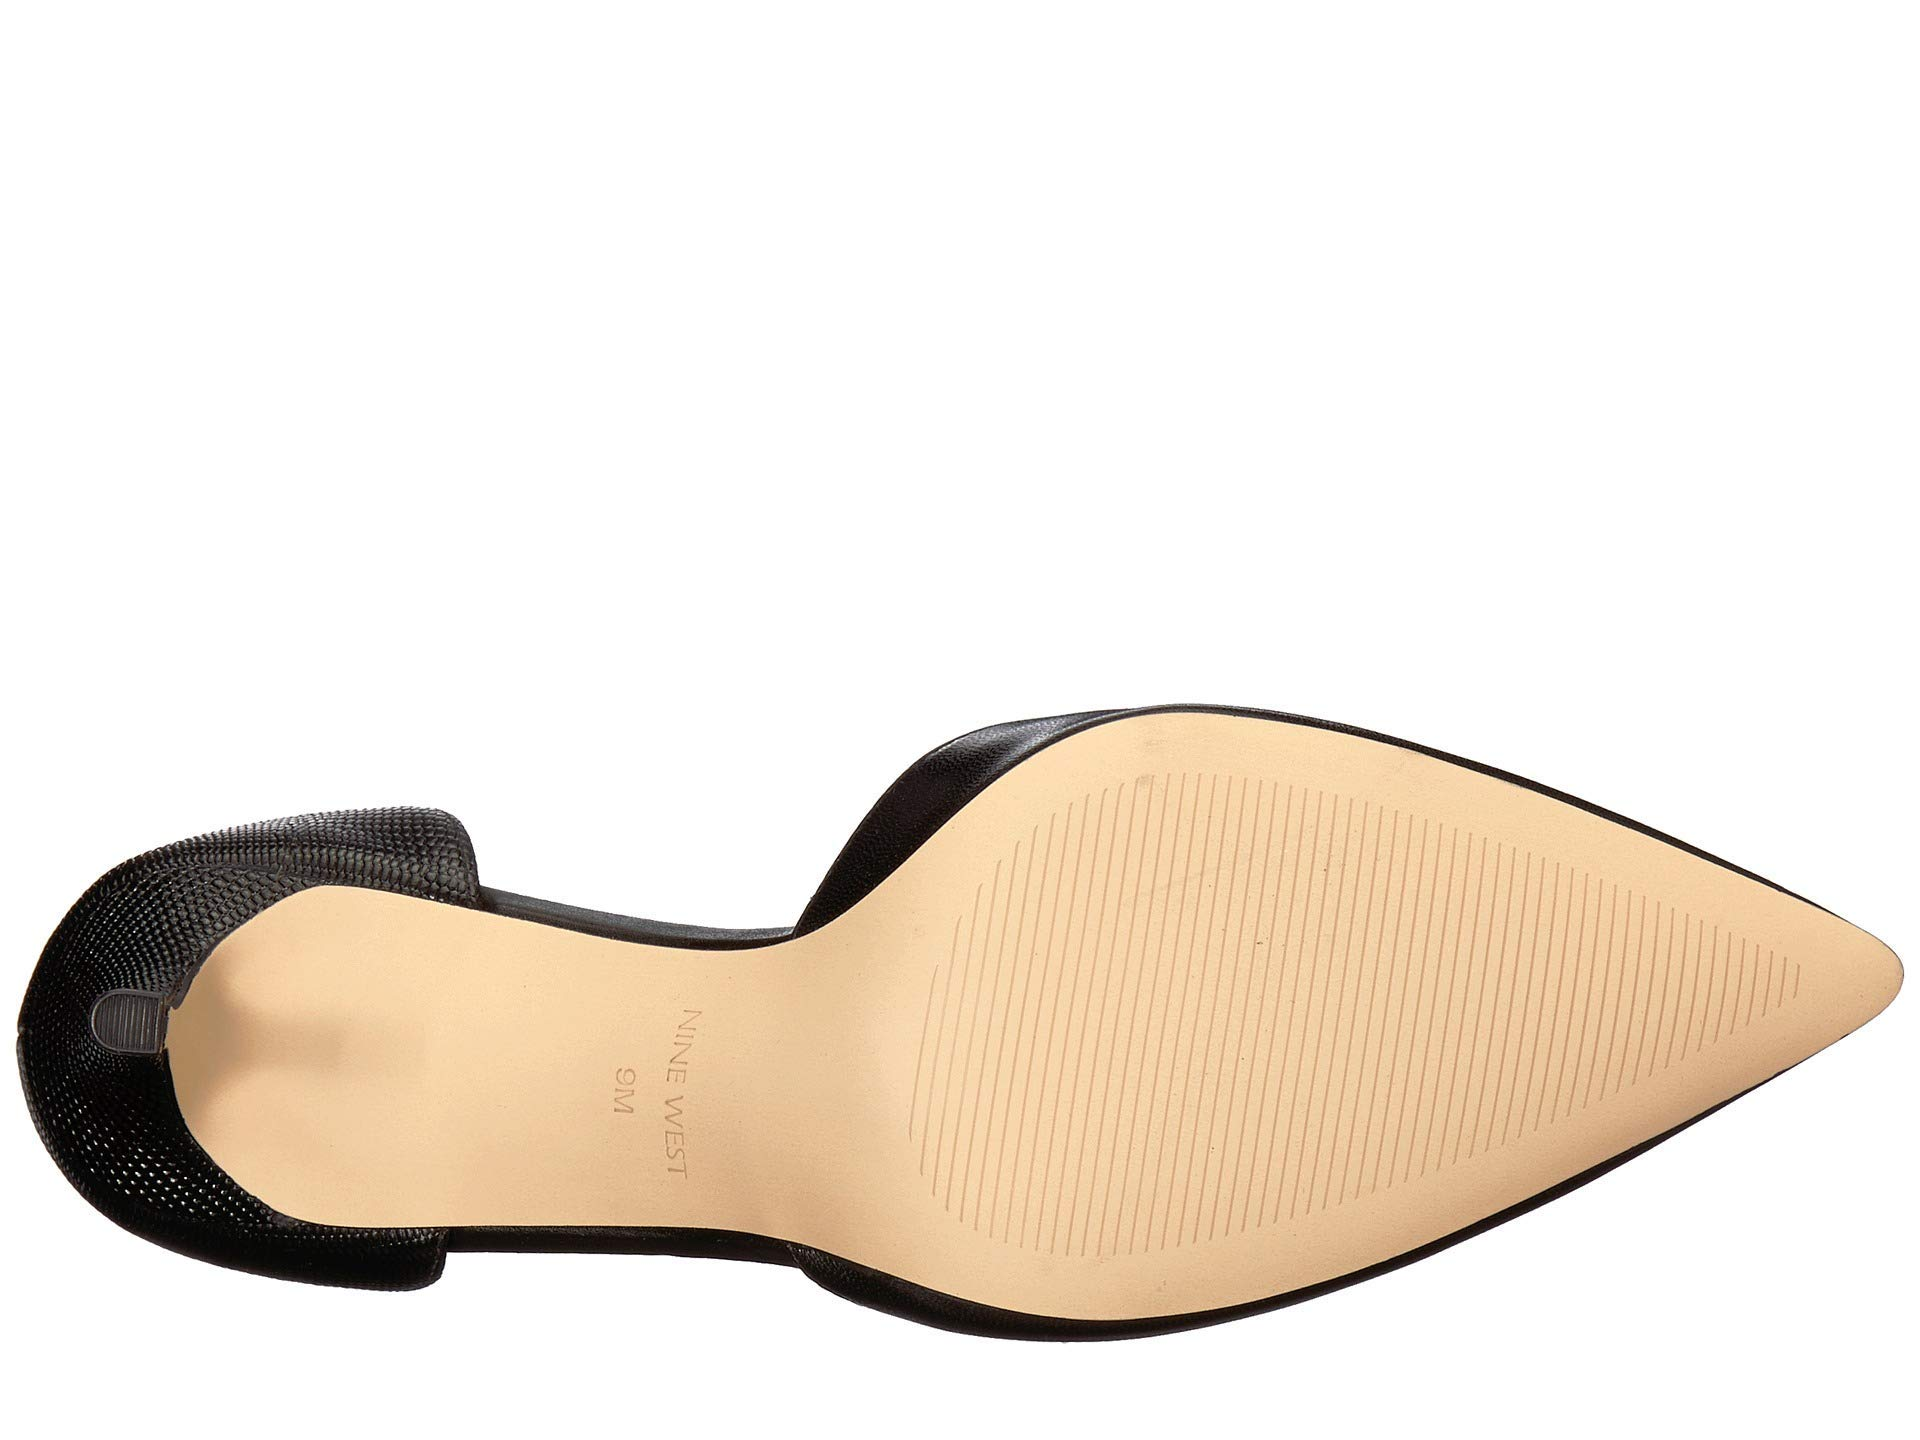exclude: (178, 826, 842, 1298)
line: (980, 802, 1609, 1163), (82, 986, 168, 1059)
quad: (82, 986, 168, 1059)
